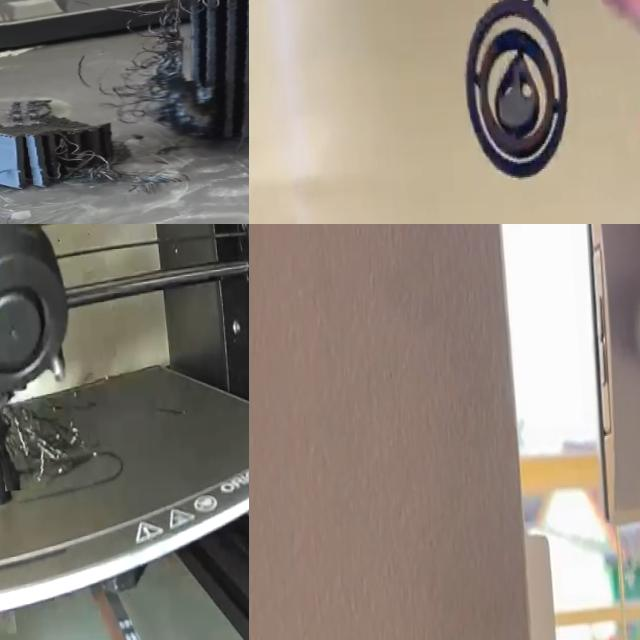spaghetti: (0, 0, 249, 192), (0, 382, 92, 491)
